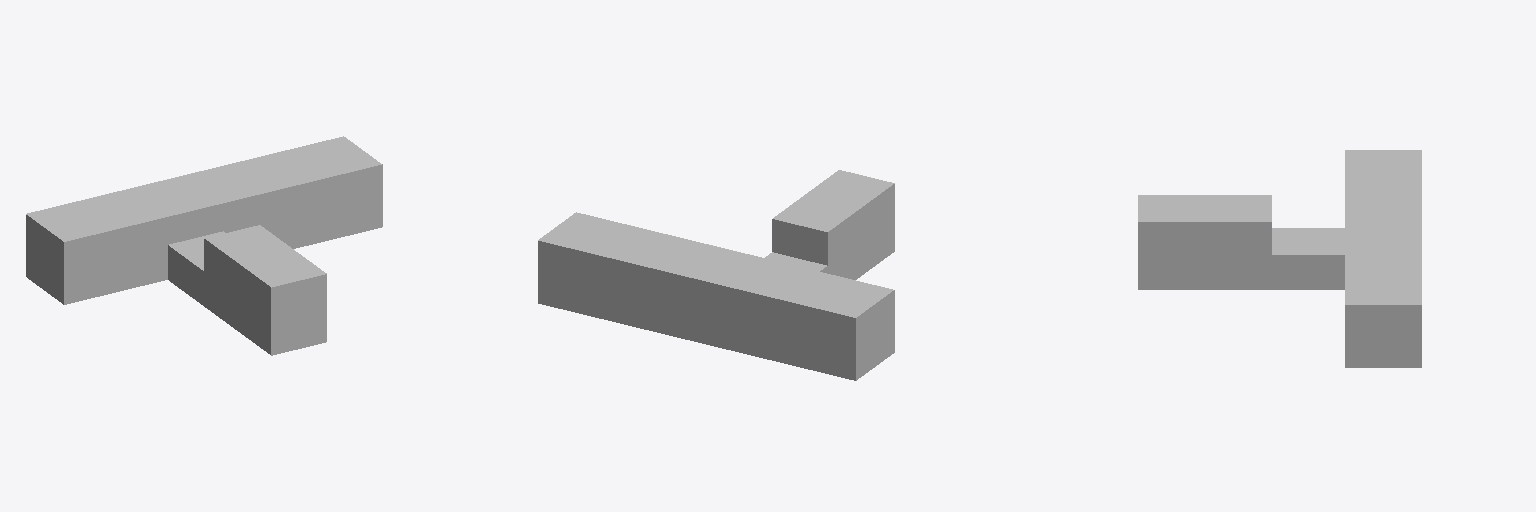
Rendered from baseT.obj.
The picture shows the model from 3 angles: view 1: azimuth 30°, elevation 25°; view 2: azimuth 150°, elevation 25°; view 3: azimuth 270°, elevation 25°; orthographic projection.
Parts seen in each view (by area): view 1: baseT; view 2: baseT; view 3: baseT.
Boxes of the visible parts, <box> form: baseT: <box>26,136,382,355</box>; baseT: <box>538,170,894,380</box>; baseT: <box>1138,150,1421,367</box>.
Bounding box in the file's own units: 1000 × 205 × 775.